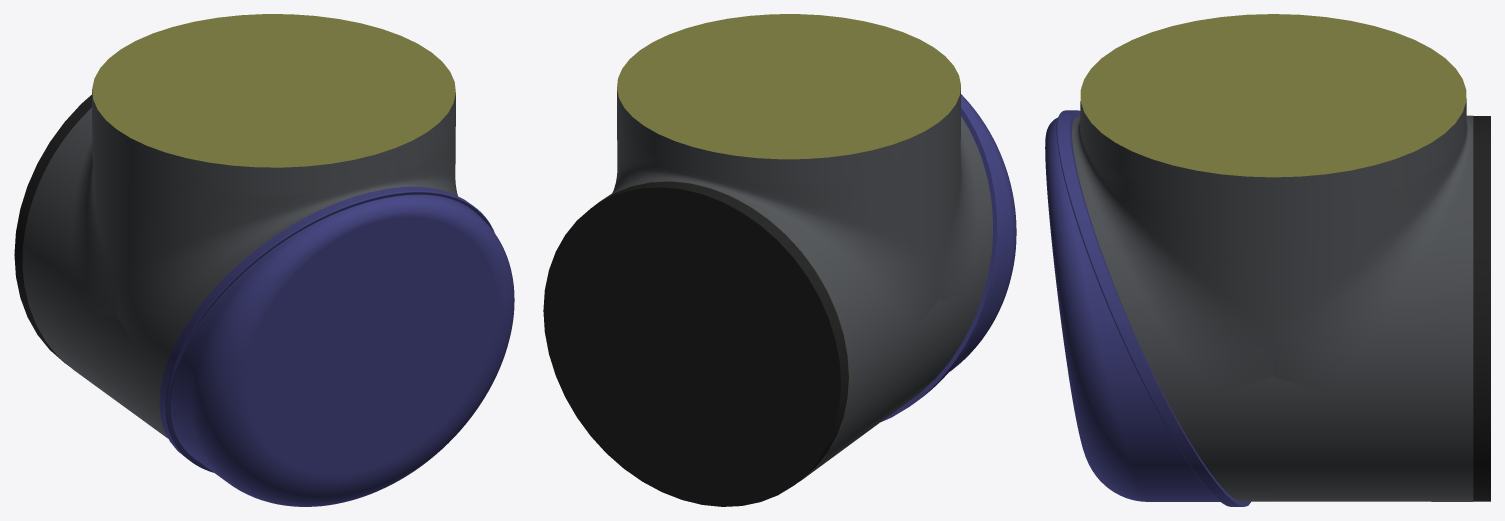
File: Shoulder.obj
3 renders of one model, left to right at view 1: azimuth 30°, elevation 25°; view 2: azimuth 150°, elevation 25°; view 3: azimuth 270°, elevation 25°, orthographic. The views are drawn at different scales.
Visible parts, largest first — view 1: Actor0, Actor1; view 2: Actor0, Actor1; view 3: Actor0, Actor1.
Part boxes in pixels (x1,y1,x2,y2): Actor0: (14,14,457,438); Actor1: (159,187,514,506); Actor0: (543,14,992,506); Actor1: (881,94,1016,421); Actor0: (1072,14,1490,501); Actor1: (1045,110,1250,506).
Size of the model in its own units: 0.119 by 0.13 by 0.1337.
